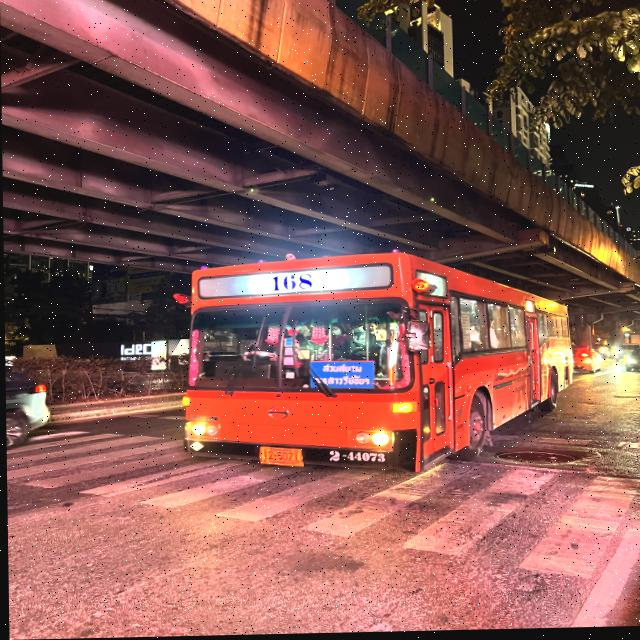BMTA-bus: (179, 251, 575, 480)
Bus-Line-Number: (263, 272, 319, 297)
Destination-Sign-Normal: (309, 359, 376, 394)
